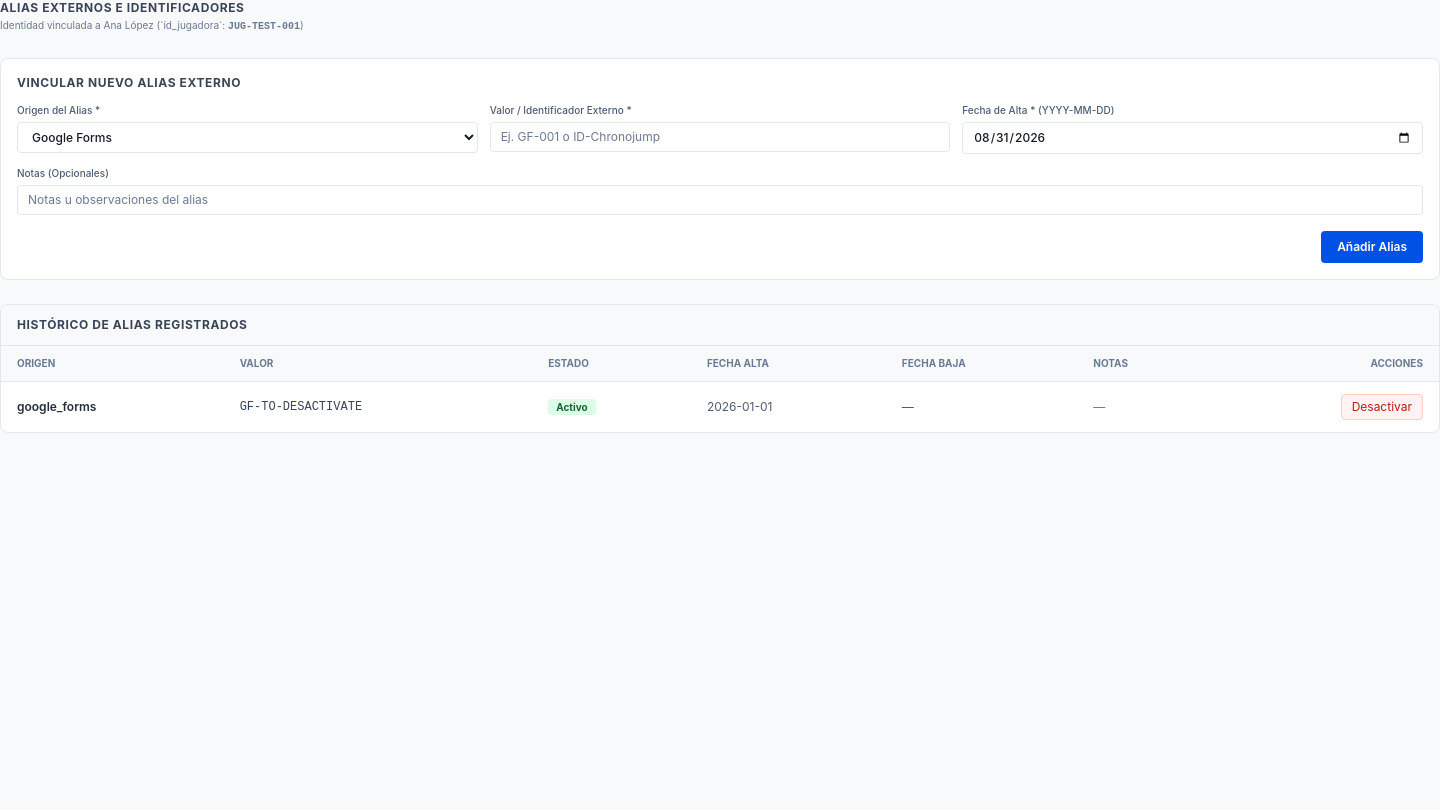
Scenario: T-02B — PlayerAliasSection UI & Alias Management › 5. Desactivar alias requiere confirmación y fecha de baja válida, conservando el registro histórico inactivo
The image size is (1440, 810).
Expected: the text "GF-TO-DESACTIVATE" is shown, [224,382,532,432]
Click the button "Desactivar": (1382, 407) [1341,394,1423,420]
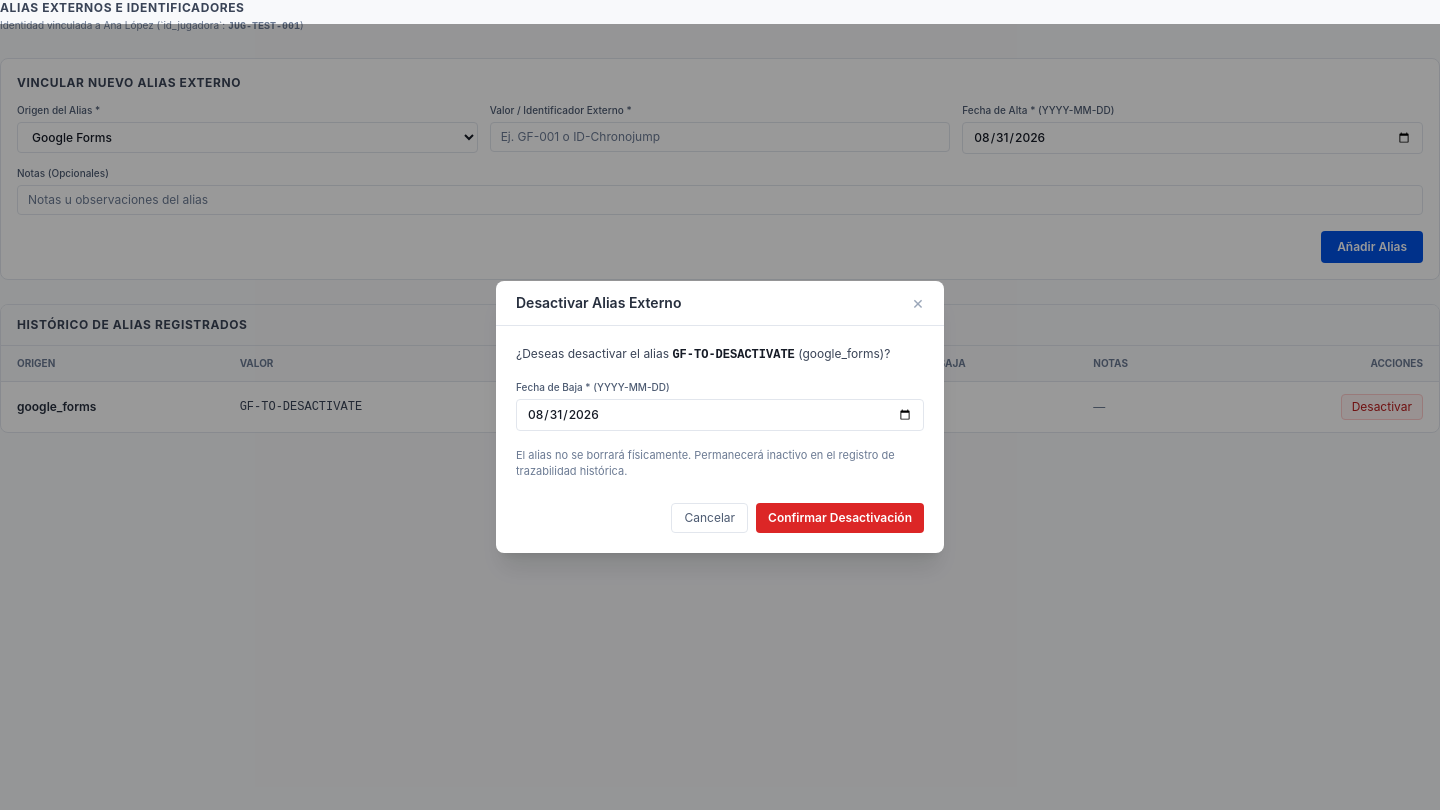
Expected: the heading "Desactivar Alias Externo" is shown, [516,293,681,313]
Click the button "Confirmar Desactivación": (840, 518) [756,503,924,533]
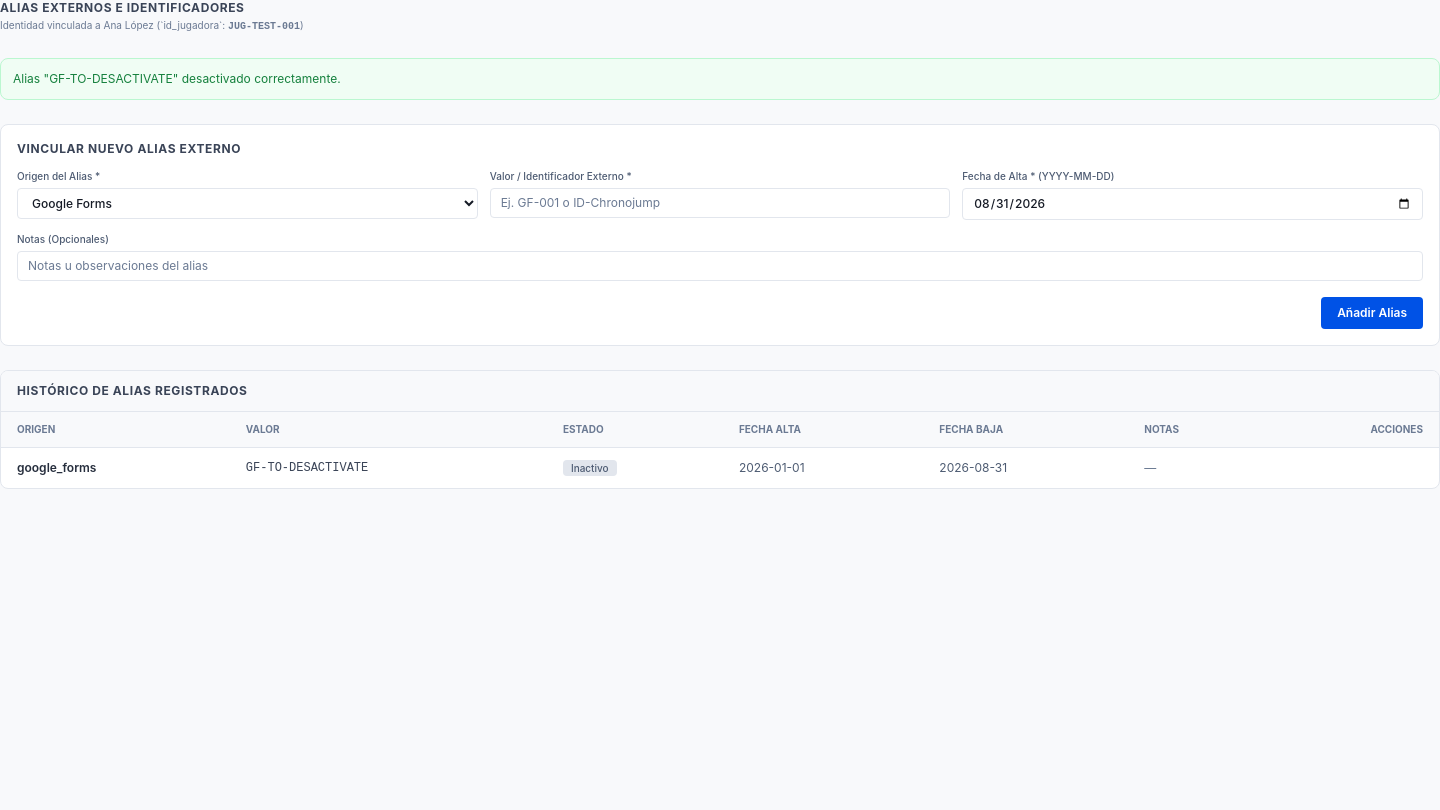
Expected: the text "Alias \"GF-TO-DESACTIVATE\" desactivado correctamente." is shown, [0,58,1439,100]
